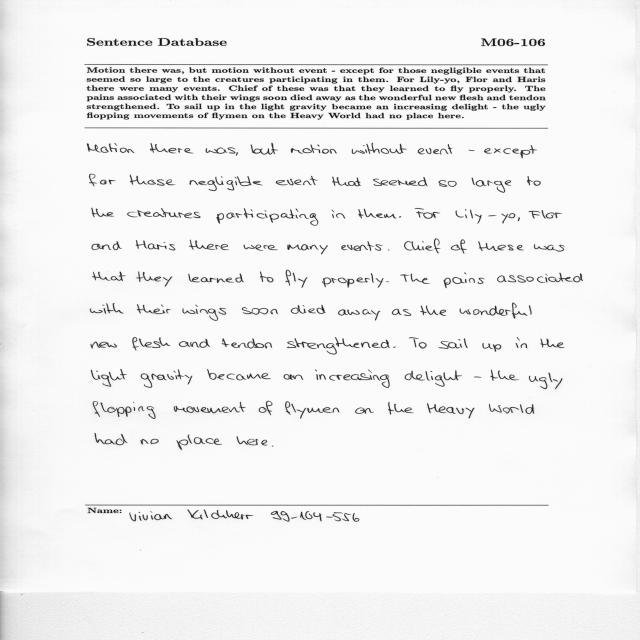word: (216, 208, 318, 226), (287, 338, 390, 355), (315, 369, 390, 388), (93, 401, 156, 419), (189, 176, 263, 191), (460, 303, 532, 318), (285, 401, 340, 419), (141, 369, 192, 388), (405, 370, 462, 387), (322, 273, 384, 288), (456, 209, 516, 224), (497, 273, 583, 283), (174, 402, 246, 413), (427, 403, 475, 419), (127, 208, 201, 218), (177, 434, 222, 450), (207, 369, 271, 380), (484, 145, 537, 158), (183, 305, 226, 321), (444, 272, 485, 288), (91, 369, 127, 387), (472, 177, 511, 193), (352, 143, 407, 154), (188, 273, 244, 283), (222, 338, 272, 349), (529, 373, 563, 389), (404, 239, 440, 254), (137, 272, 173, 287), (133, 337, 171, 351), (338, 309, 380, 321), (130, 175, 175, 186), (373, 177, 428, 186), (150, 143, 193, 154), (88, 143, 135, 153), (291, 144, 337, 154), (478, 241, 524, 251), (287, 244, 328, 255), (489, 404, 534, 414), (136, 240, 175, 251), (341, 241, 383, 251), (189, 240, 229, 250), (286, 270, 308, 288), (95, 434, 128, 446), (418, 144, 453, 155), (359, 209, 397, 219), (276, 176, 318, 185), (90, 303, 124, 314), (137, 304, 171, 314), (388, 402, 414, 415), (251, 143, 278, 155), (89, 174, 116, 186), (439, 338, 468, 349), (490, 370, 519, 381), (291, 305, 326, 314), (400, 274, 430, 284), (529, 210, 562, 219), (93, 272, 126, 281), (332, 177, 361, 187), (242, 307, 278, 315), (236, 437, 268, 446), (421, 305, 447, 316), (179, 339, 210, 348), (415, 208, 440, 219), (92, 241, 122, 250), (451, 239, 467, 254), (534, 244, 564, 252), (540, 339, 565, 348), (206, 147, 236, 154), (244, 245, 278, 251), (92, 208, 114, 217), (409, 338, 427, 349), (91, 342, 117, 349), (259, 401, 272, 415), (483, 343, 502, 352), (260, 272, 273, 283), (527, 176, 541, 186), (392, 309, 411, 316), (516, 338, 528, 349), (439, 180, 457, 187), (332, 210, 346, 219), (284, 374, 304, 380), (355, 408, 374, 414), (140, 439, 159, 444), (236, 152, 238, 156), (518, 217, 520, 221), (474, 377, 481, 378), (469, 150, 475, 151), (399, 216, 401, 218), (386, 282, 390, 283), (393, 347, 396, 348), (388, 250, 389, 251), (272, 446, 273, 447)
